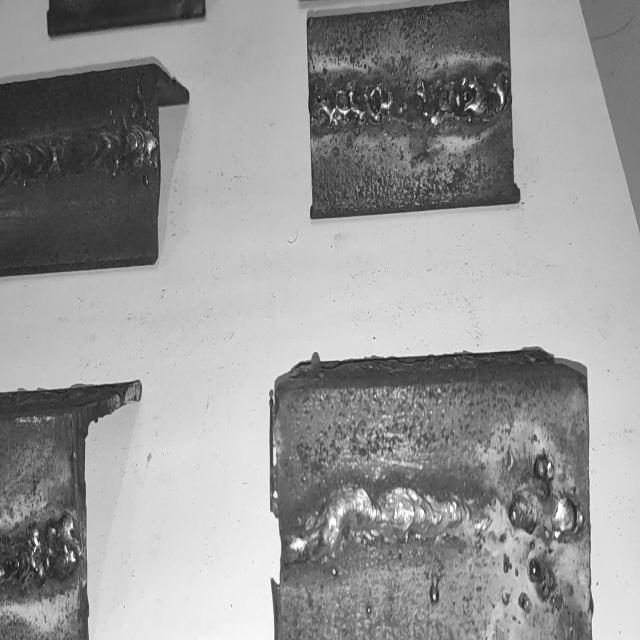Defect: (502, 436, 586, 632), (312, 68, 509, 132), (0, 518, 72, 594)
Good Weld: (280, 483, 468, 571), (1, 131, 155, 186)
